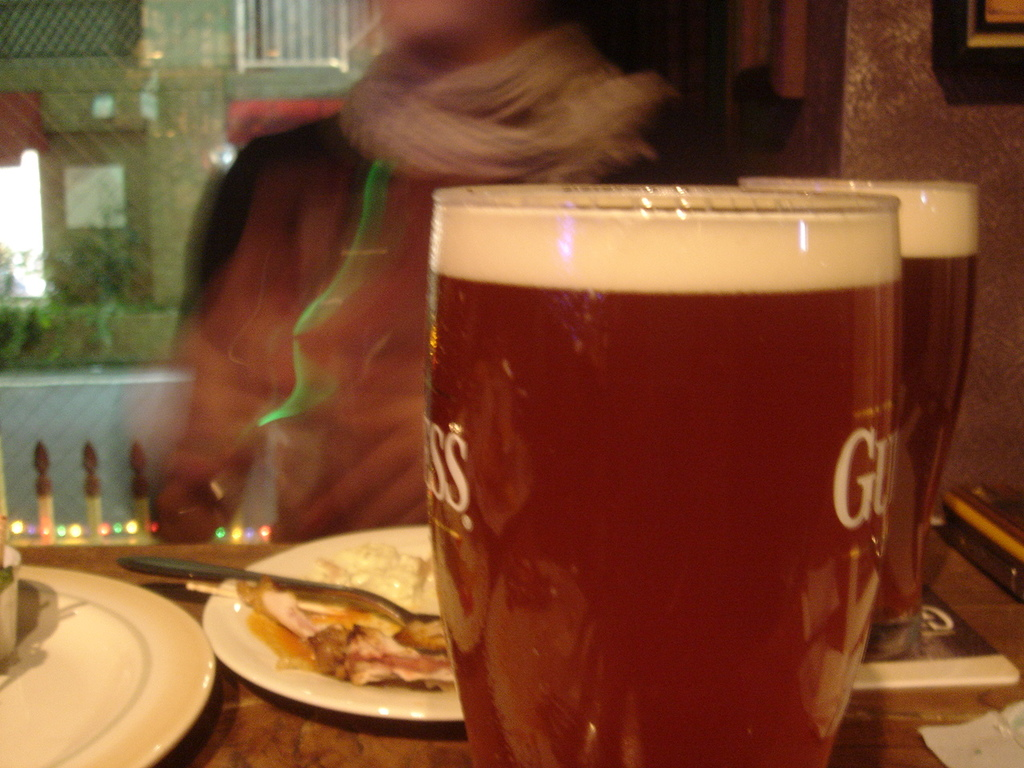Beer: (423, 174, 905, 767), (733, 173, 983, 614)
